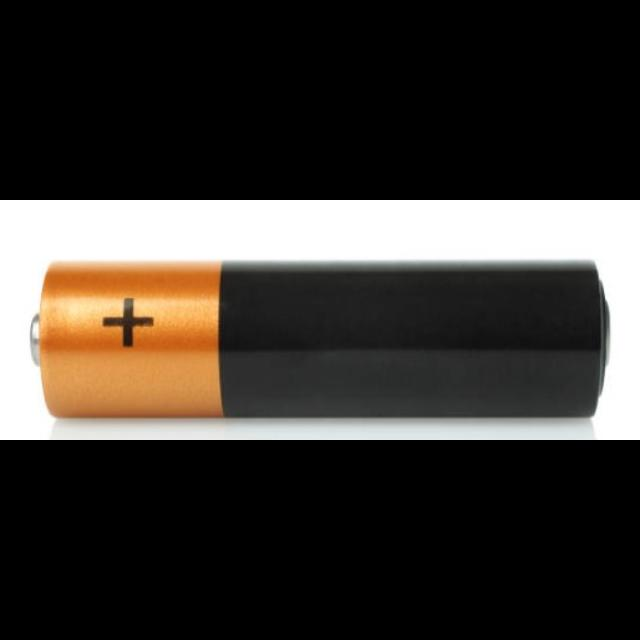Battery: (35, 260, 610, 419)
